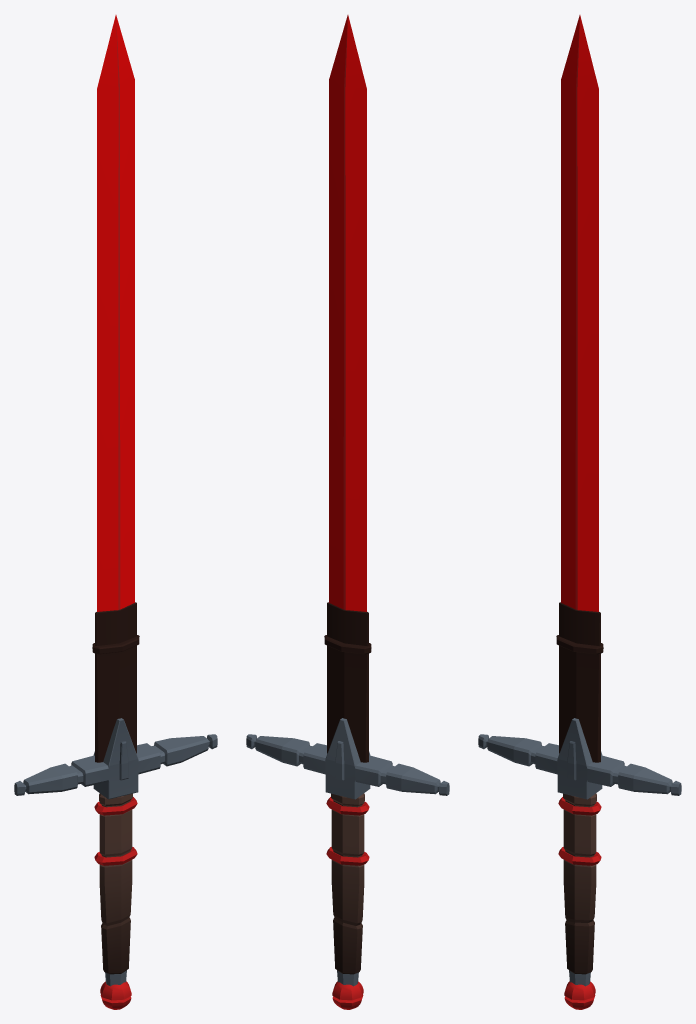
The model's file is SM_Sword05_EnglishGreatSword_5FantasyRed.fbx.
3 renders of one model, left to right at view 1: azimuth 30°, elevation 25°; view 2: azimuth 150°, elevation 25°; view 3: azimuth 330°, elevation 25°, orthographic.
Visible parts, largest first — view 1: Cube.308, Cube.309, Cylinder.329, Cylinder.337, Torus.032, Sphere.115; view 2: Cube.308, Cube.309, Cylinder.329, Cylinder.337, Torus.032, Sphere.115; view 3: Cube.308, Cube.309, Cylinder.329, Cylinder.337, Torus.032, Sphere.115.
Part boxes in pixels (x1,y1,x2,y2): Cube.308: (97, 15, 134, 611); Cube.309: (14, 718, 217, 799); Cylinder.329: (92, 602, 139, 762); Cylinder.337: (99, 793, 132, 986); Torus.032: (94, 797, 137, 865); Sphere.115: (100, 981, 131, 1009); Cube.308: (329, 15, 366, 611); Cube.309: (246, 718, 449, 799); Cylinder.329: (324, 602, 371, 762); Cylinder.337: (331, 793, 364, 986); Torus.032: (326, 797, 369, 865); Sphere.115: (332, 981, 363, 1009); Cube.308: (561, 15, 598, 611); Cube.309: (478, 718, 681, 799); Cylinder.329: (556, 602, 603, 762); Cylinder.337: (563, 793, 596, 986); Torus.032: (558, 797, 601, 865); Sphere.115: (564, 981, 595, 1009).
Size of the model in its own units: 0.2709 by 1.29 by 0.0431.
